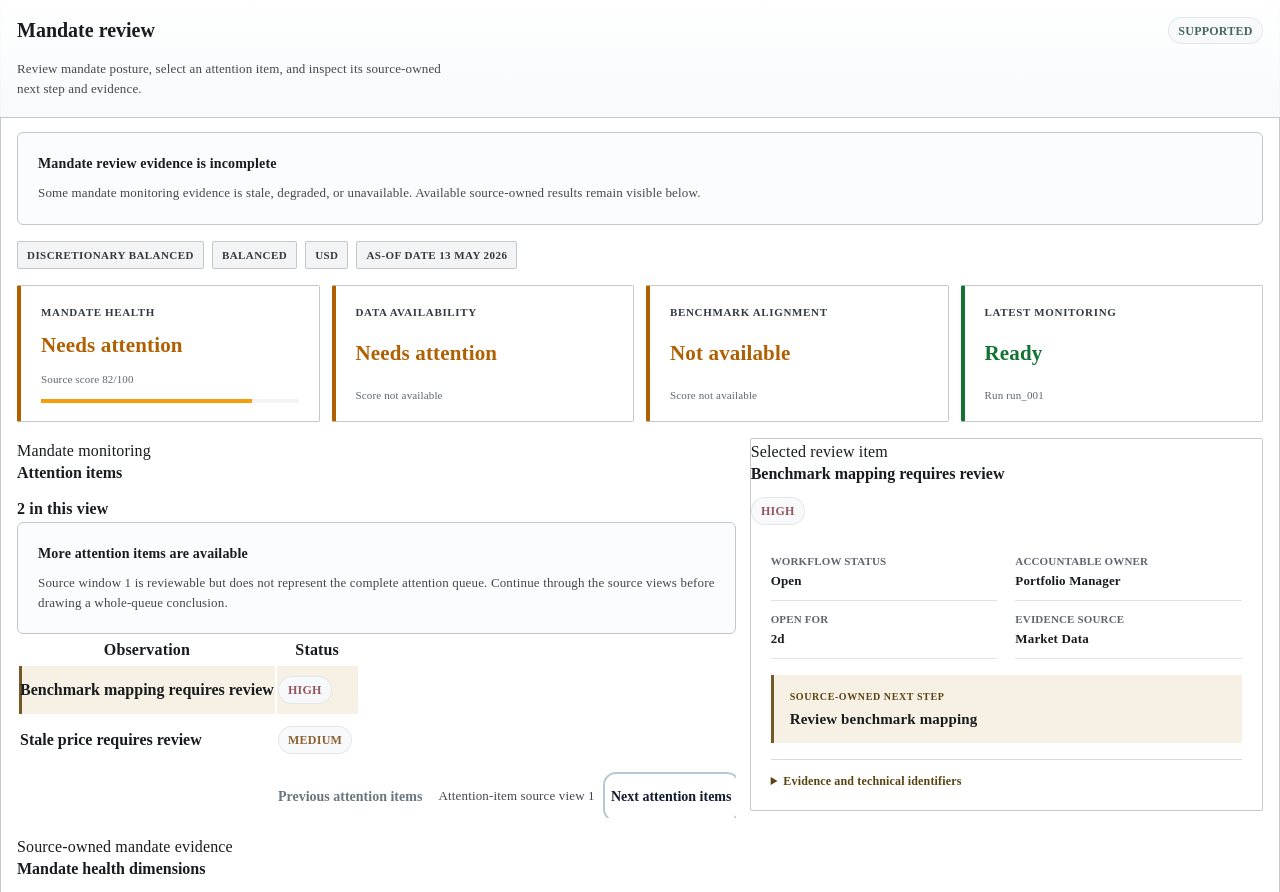
Test: manage workspace split components › loads the next exception window through the BFF and confirms its source identity
Step 1. Click the button "Next attention items" → click(671, 797), box x1=607 y1=776 x2=736 y2=818
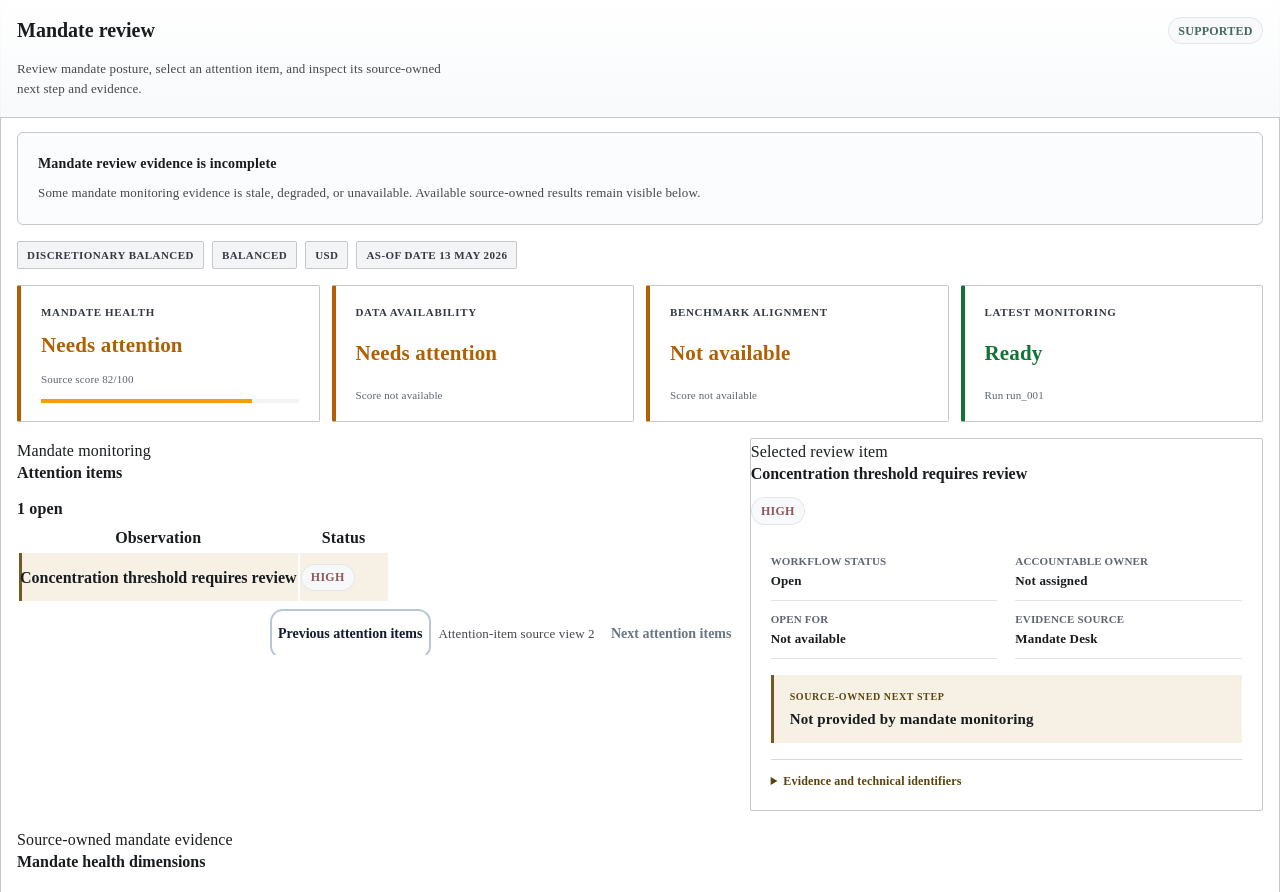
Expected: the button "Concentration threshold requires review" is shown, x1=20 y1=560 x2=297 y2=594
Expected: the text "Attention-item source view 2" is shown, x1=438 y1=624 x2=595 y2=644
